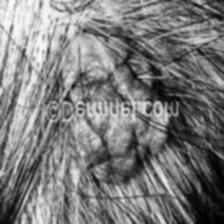Potentially Malignant Skin Tumors: (61, 29, 172, 182)
